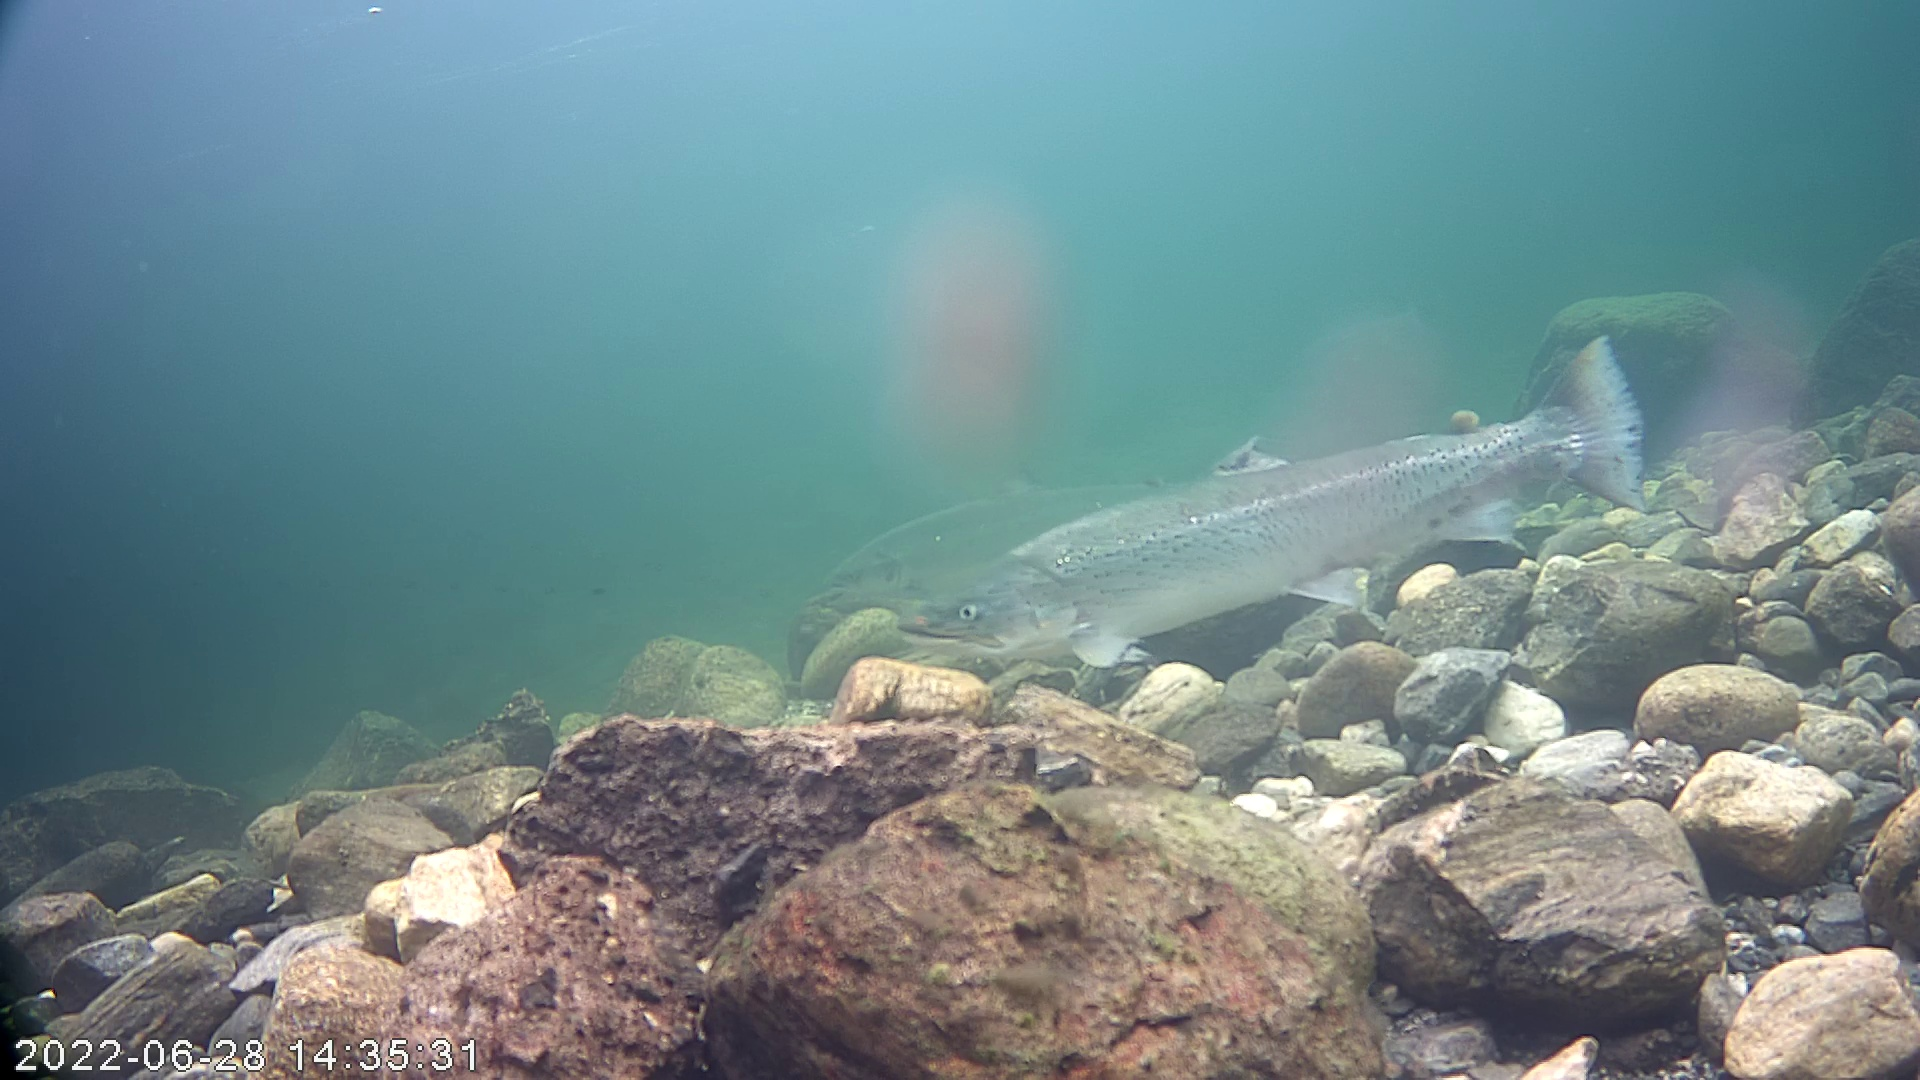salmon: (810, 280, 1679, 684)
